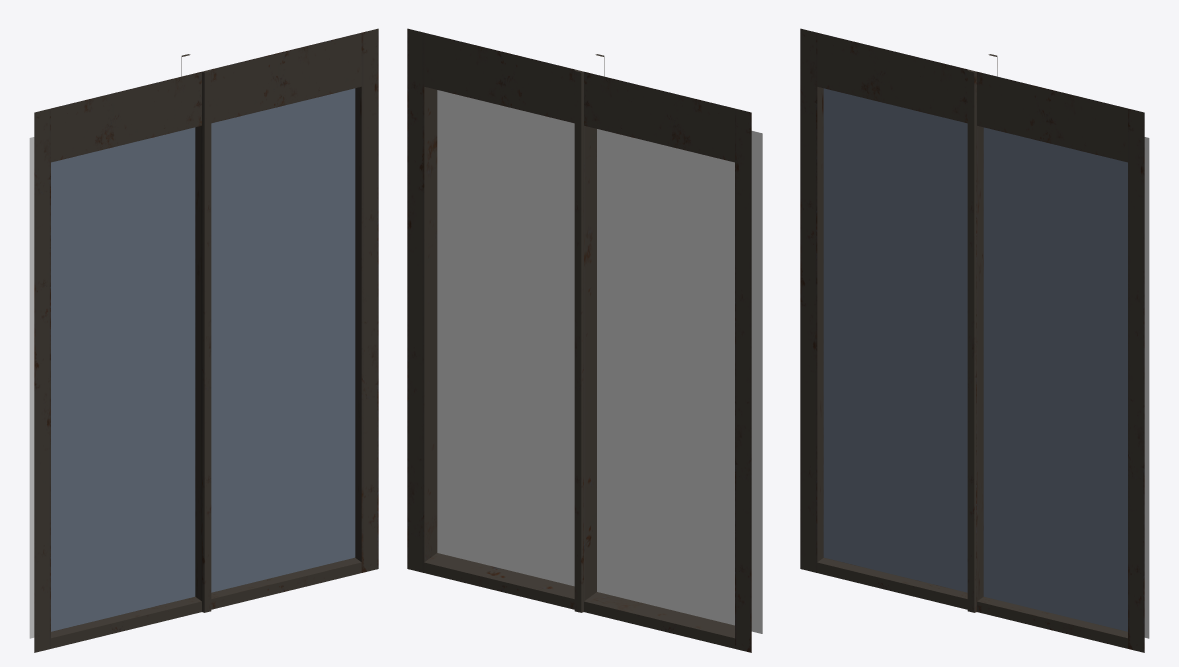
Rendered from Metal_FullWindow.gltf.
3 renders of one model, left to right at view 1: azimuth 30°, elevation 25°; view 2: azimuth 150°, elevation 25°; view 3: azimuth 330°, elevation 25°, orthographic.
Parts seen in each view (by area): view 1: Metal_FullWindow; view 2: Metal_FullWindow; view 3: Metal_FullWindow.
Boxes of the visible parts, x1,y1,x2,y2 form: Metal_FullWindow: (29,28,378,652); Metal_FullWindow: (407,28,762,652); Metal_FullWindow: (800,28,1149,652).
Size of the model in its own units: 2 by 3 by 0.2311.
Materials: 3 (1 with a texture image).
